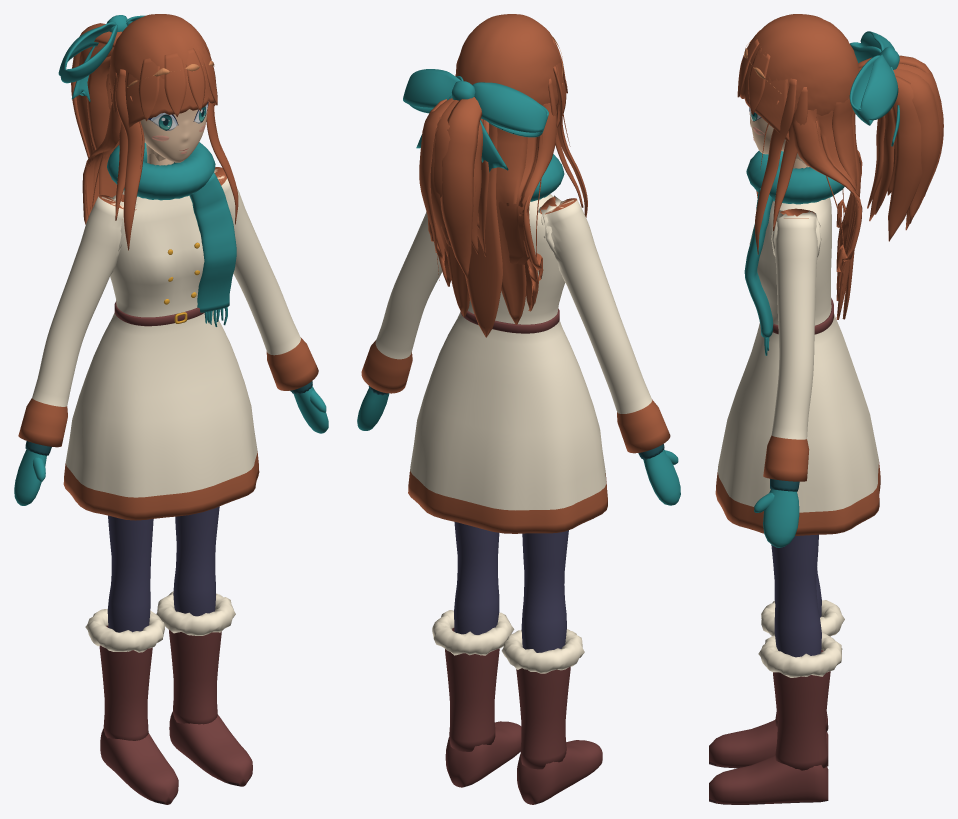
3 renders of one model, left to right at view 1: azimuth 30°, elevation 25°; view 2: azimuth 150°, elevation 25°; view 3: azimuth 270°, elevation 25°, orthographic. The views are drawn at different scales.
Parts seen in each view (by area): view 1: Coat, Boots, Tights, Scarf, Hair_Bangs, Hair_Cap, Hair_SideLocks, Hair_Ponytail, Mittens, Bow, Head, Hair_Back (+1 smaller); view 2: Coat, Boots, Hair_Back, Tights, Hair_Ponytail, Hair_Cap, Bow, Mittens, Hair_SideLocks, Belt, Scarf; view 3: Coat, Boots, Hair_Ponytail, Hair_Cap, Hair_Back, Tights, Scarf, Bow, Hair_SideLocks, Hair_Bangs, Mittens, Head.
Part boxes in pixels (<box>): Coat: <box>18,167,318,520</box>; Boots: <box>85,591,252,804</box>; Tights: <box>107,506,219,632</box>; Scarf: <box>107,142,236,326</box>; Hair_Bangs: <box>125,45,217,132</box>; Hair_Cap: <box>109,14,211,96</box>; Hair_SideLocks: <box>113,69,238,250</box>; Hair_Ponytail: <box>71,23,121,158</box>; Mittens: <box>14,381,328,505</box>; Bow: <box>58,15,145,101</box>; Head: <box>140,109,207,162</box>; Hair_Back: <box>82,83,121,224</box>; Coat: <box>361,194,670,533</box>; Boots: <box>432,610,602,804</box>; Hair_Back: <box>427,103,556,337</box>; Tights: <box>454,522,568,652</box>; Hair_Ponytail: <box>419,97,489,279</box>; Hair_Cap: <box>455,14,560,106</box>; Bow: <box>403,69,548,172</box>; Mittens: <box>357,386,680,505</box>; Hair_SideLocks: <box>548,66,587,217</box>; Belt: <box>460,308,559,333</box>; Scarf: <box>530,154,564,201</box>; Coat: <box>715,197,880,535</box>; Boots: <box>709,600,844,804</box>; Hair_Ponytail: <box>858,55,943,241</box>; Hair_Cap: <box>747,14,858,121</box>; Hair_Back: <box>792,97,862,319</box>; Tights: <box>771,534,821,657</box>; Scarf: <box>744,151,844,355</box>; Bow: <box>849,31,899,146</box>; Hair_SideLocks: <box>754,78,807,254</box>; Hair_Bangs: <box>737,30,789,142</box>; Mittens: <box>754,478,799,547</box>; Head: <box>749,112,808,166</box>.
Bounding box in the file's own units: 0.6895 × 1.58 × 0.4412.
Materials: 20 (2 with a texture image).
